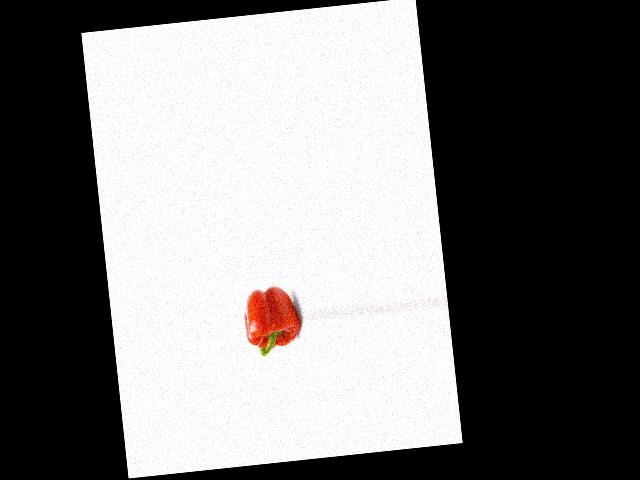bell_pepper: (240, 278, 302, 361)
